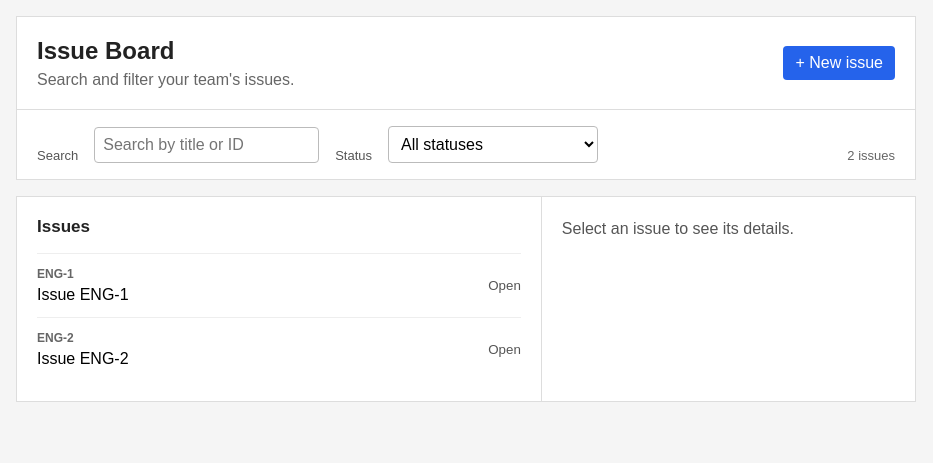
IssueBoard › preserves selection when the issue remains in refreshed results
This screenshot has width=933, height=463.
Step 1. Click the button "ENG-2 Issue ENG-2 Open" → (55, 338), box [37,318,521,381]
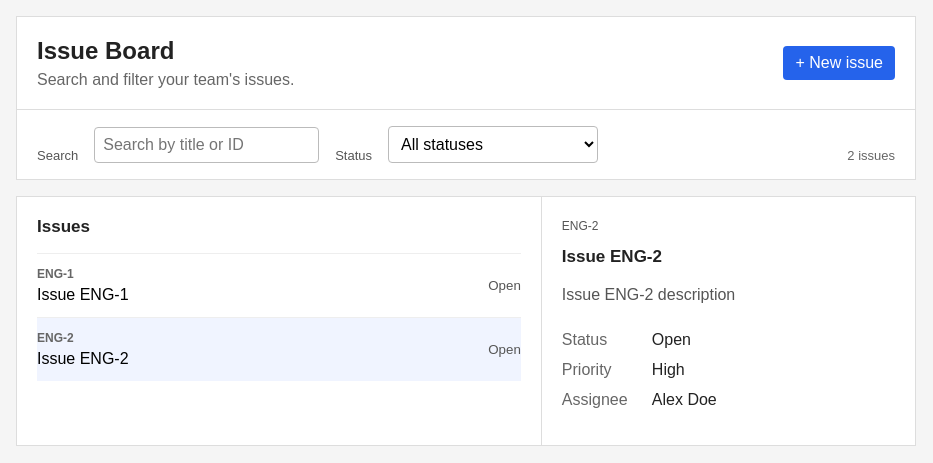
Step 2. Select "Closed" in the dropdown labelled "Status" → (493, 144), box [388,126,598,163]
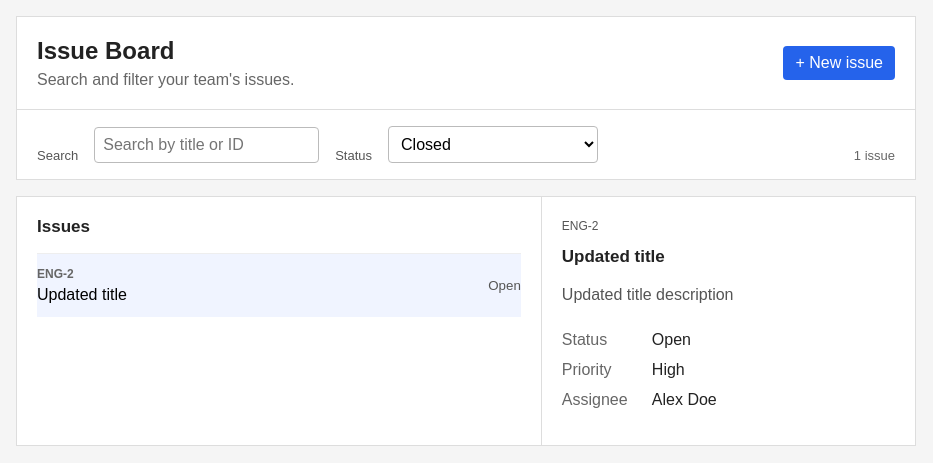
Now the heading "Updated title" is shown, box [562,247,665,266]
